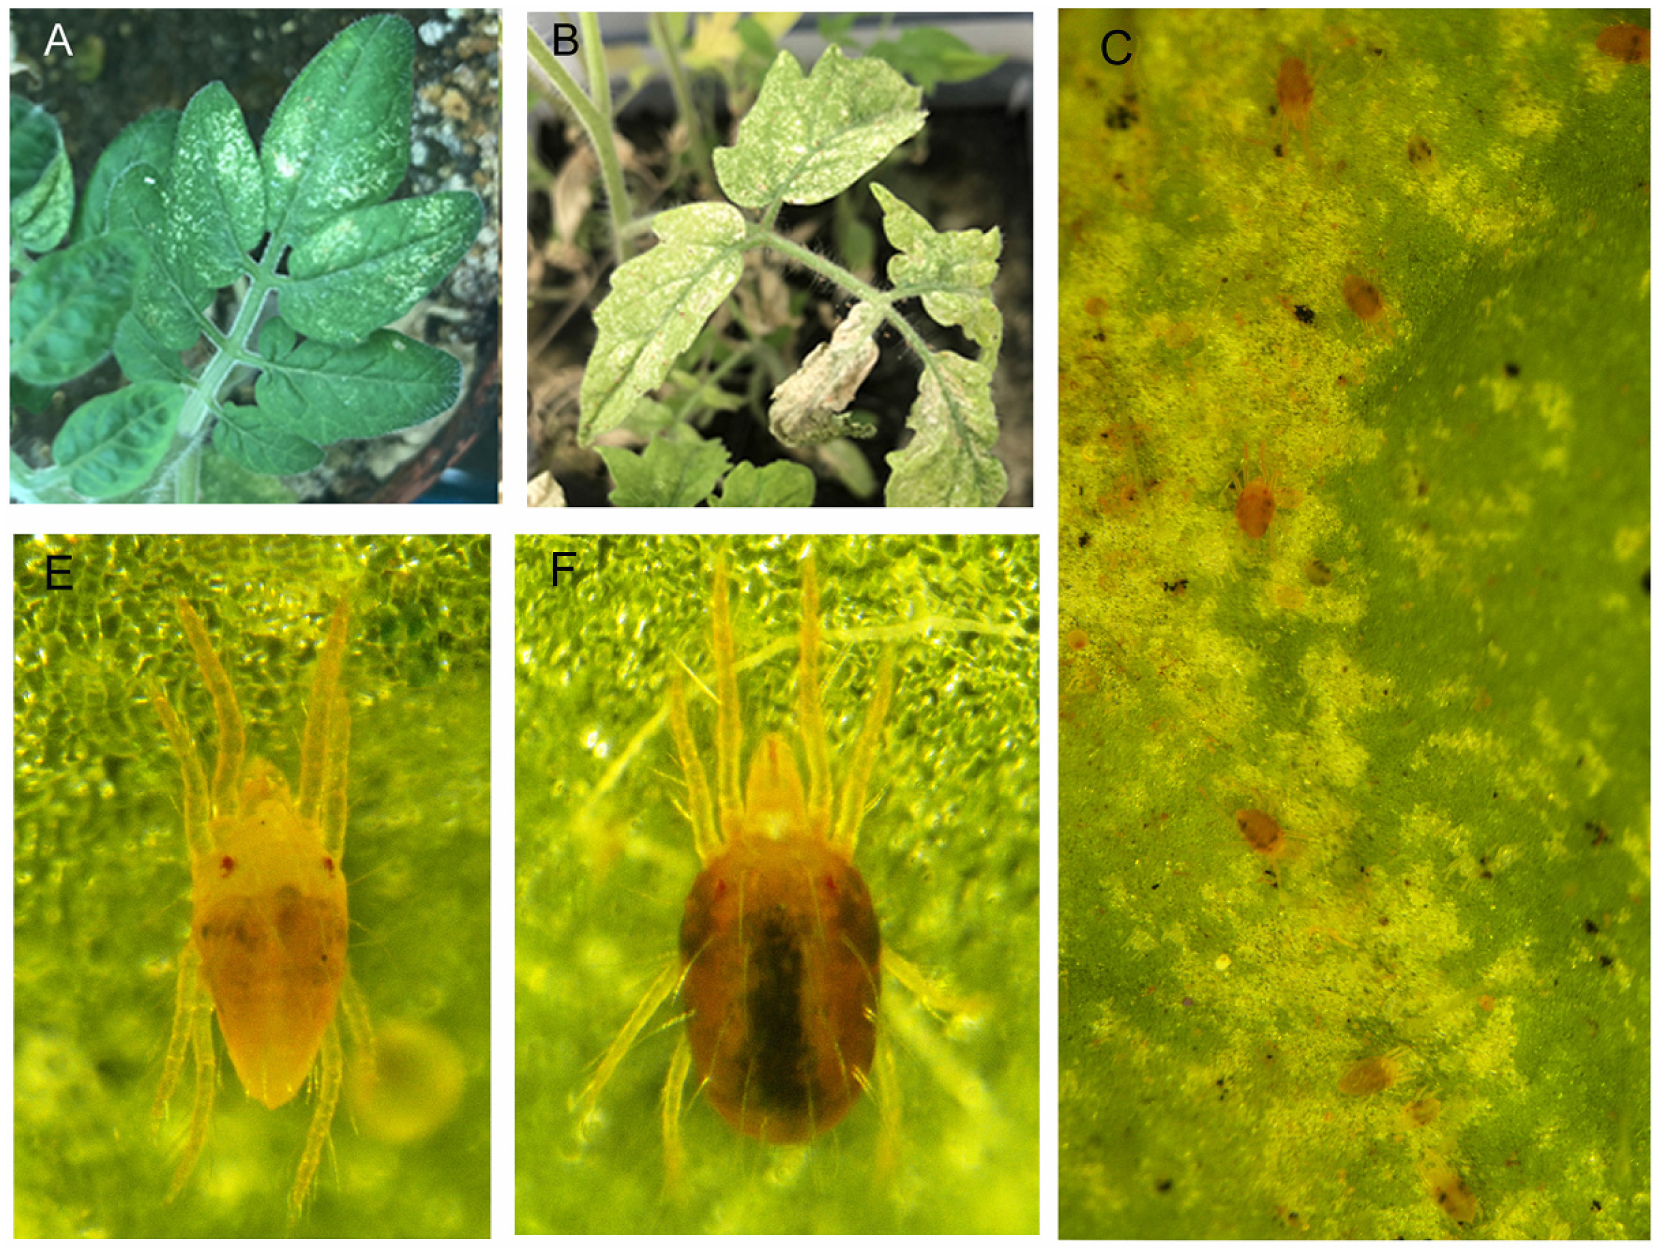Mites: (597, 552, 1032, 1177), (115, 586, 415, 1188), (1224, 748, 1295, 905), (1207, 469, 1291, 569)
